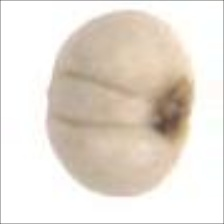L5: (45, 68, 155, 131), (152, 72, 195, 148)
L6: (42, 7, 197, 201)
